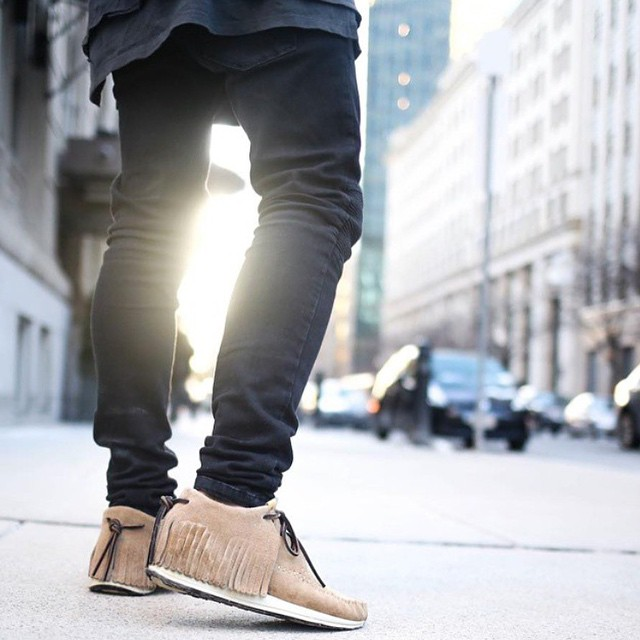sneaker: (127, 473, 390, 640), (71, 485, 181, 608)
